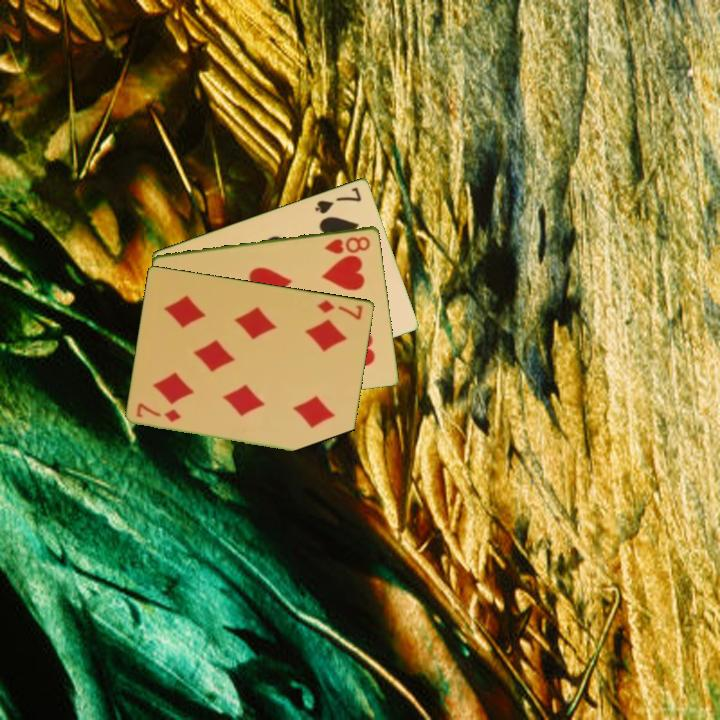7d: (313, 296, 366, 323), (133, 400, 184, 425)
7s: (311, 183, 365, 216)
8h: (321, 233, 373, 256)
